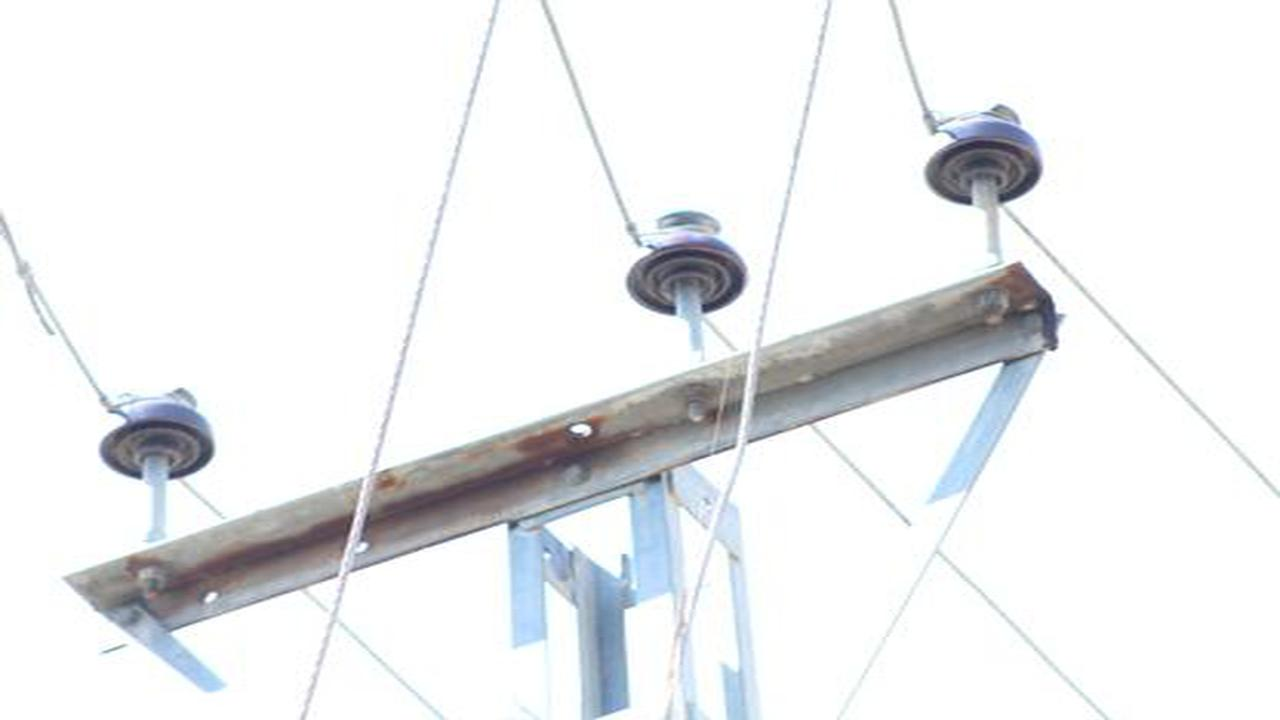insulator_pin: (621, 208, 755, 314), (918, 102, 1045, 212), (96, 382, 220, 481)
